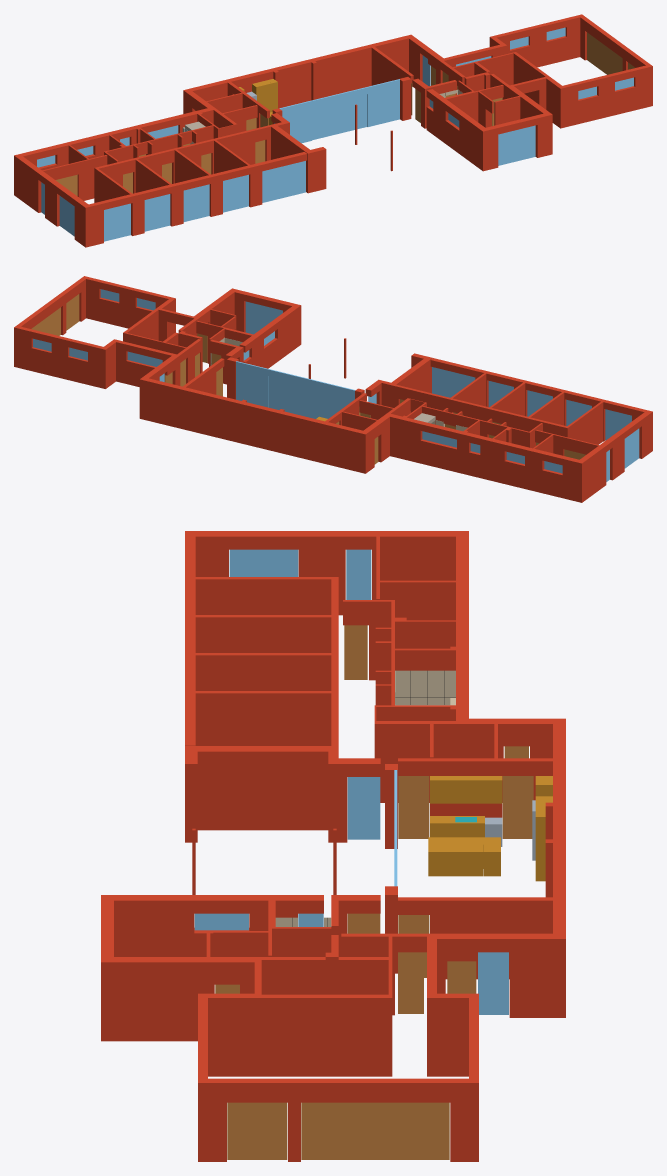
The model's file is ground_floor.glb.
3 renders of one model, top to bottom at view 1: azimuth 30°, elevation 25°; view 2: azimuth 150°, elevation 25°; view 3: azimuth 270°, elevation 25°, orthographic. The views are drawn at different scales.
Parts seen in each view (by area): view 1: masonry (×36), glazing (×9), door; view 2: masonry (×33), glazing (×9), door (×2); view 3: masonry (×37), door (×7), glazing (×5).
Boxes of the visible parts, left/top/right/bottom form: masonry (×36): left=14, top=14, right=652, bottom=247; glazing (×9): left=59, top=79, right=535, bottom=241; door: left=587, top=32, right=622, bottom=74; masonry (×33): left=14, top=276, right=652, bottom=502; glazing (×9): left=236, top=301, right=639, bottom=468; door (×2): left=31, top=294, right=79, bottom=335; masonry (×37): left=101, top=531, right=565, bottom=1161; door (×7): left=227, top=625, right=533, bottom=1159; glazing (×5): left=194, top=549, right=508, bottom=1014.
Bounding box in the file's own units: 45.05 × 3.05 × 16.05.
